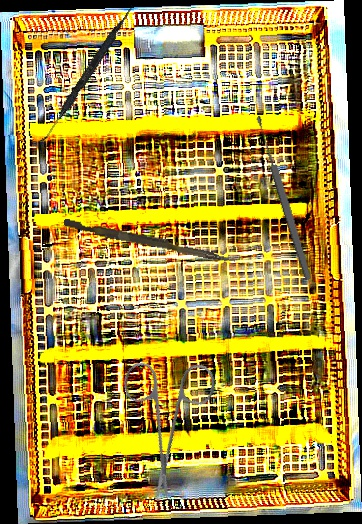Iris Scissors: (81, 329, 254, 502)
Pusher: (62, 218, 237, 264)
Spatula Surgical: (40, 2, 135, 146)
Surgical Spoon: (253, 114, 314, 282)
